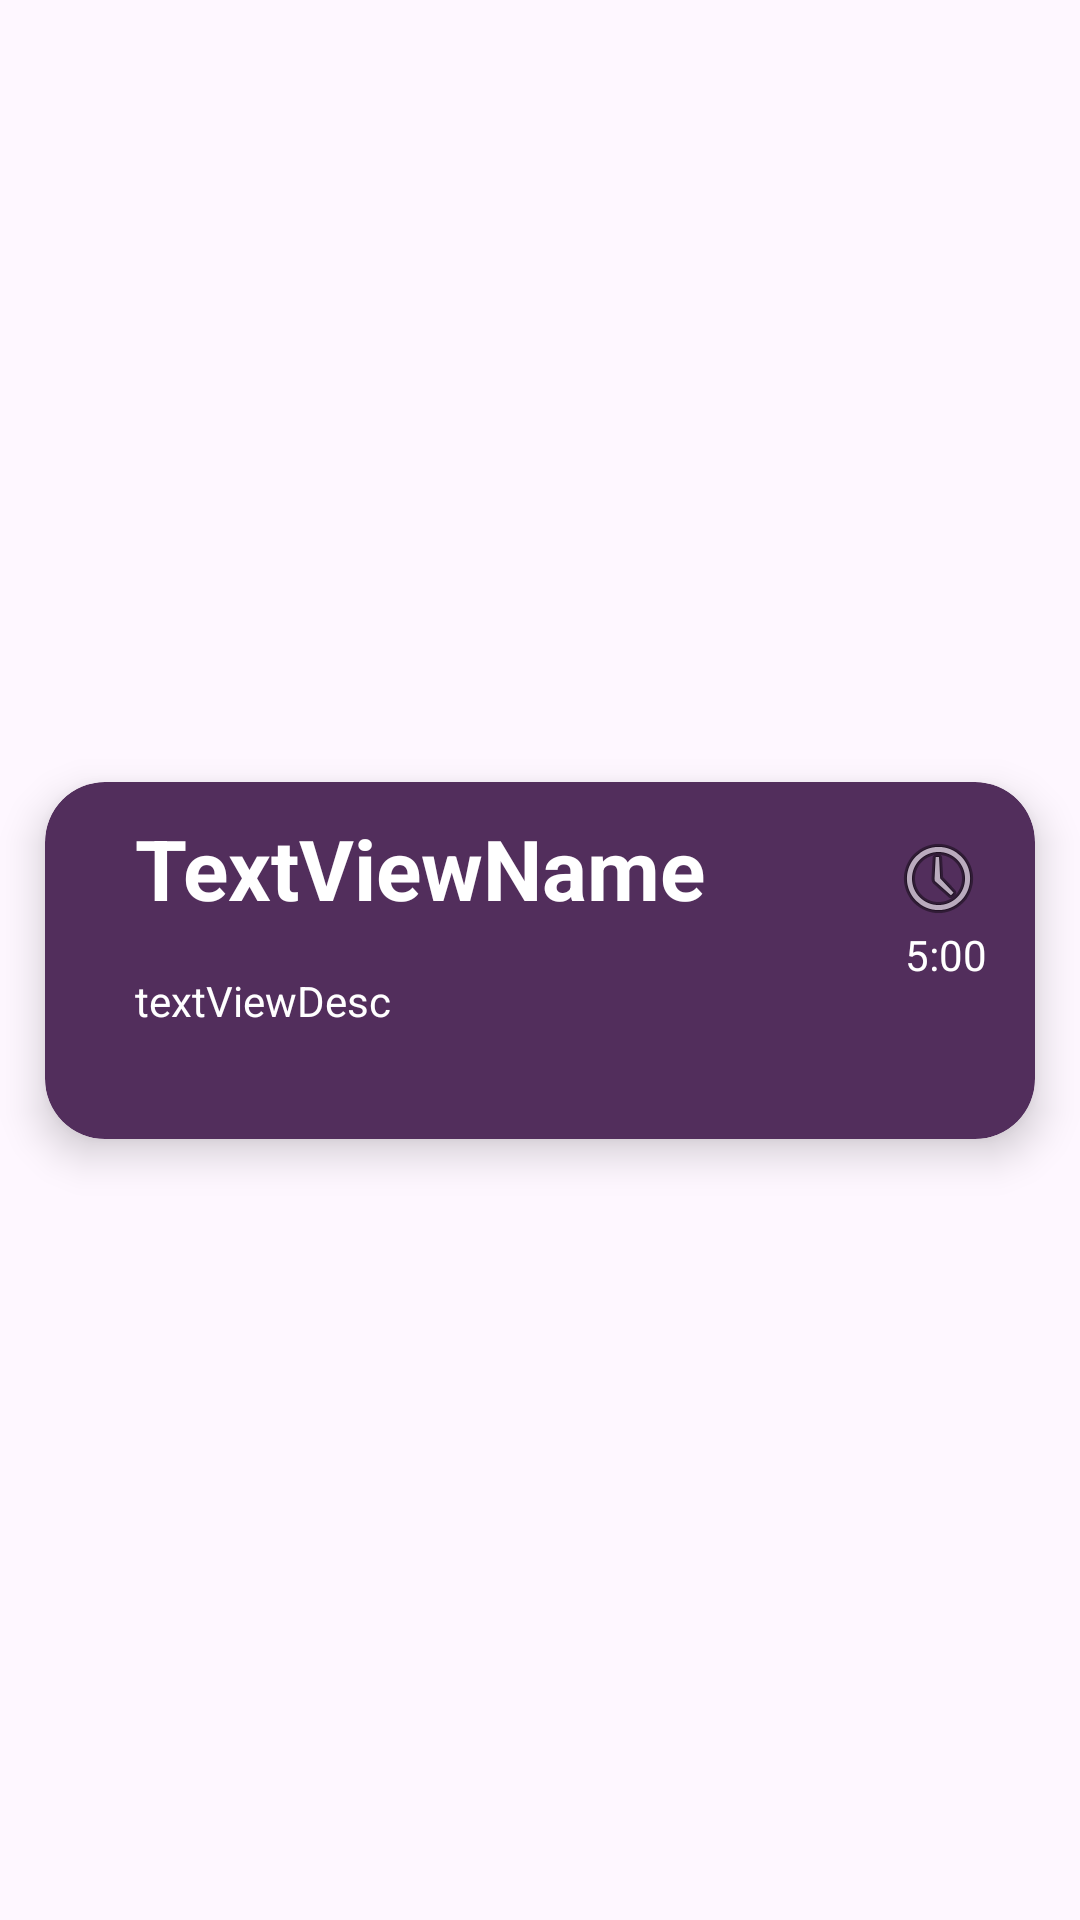

Icons on this 1080w x 1920h Android screen, each with the point to tap as (x,y):
recent history: (938,878)
